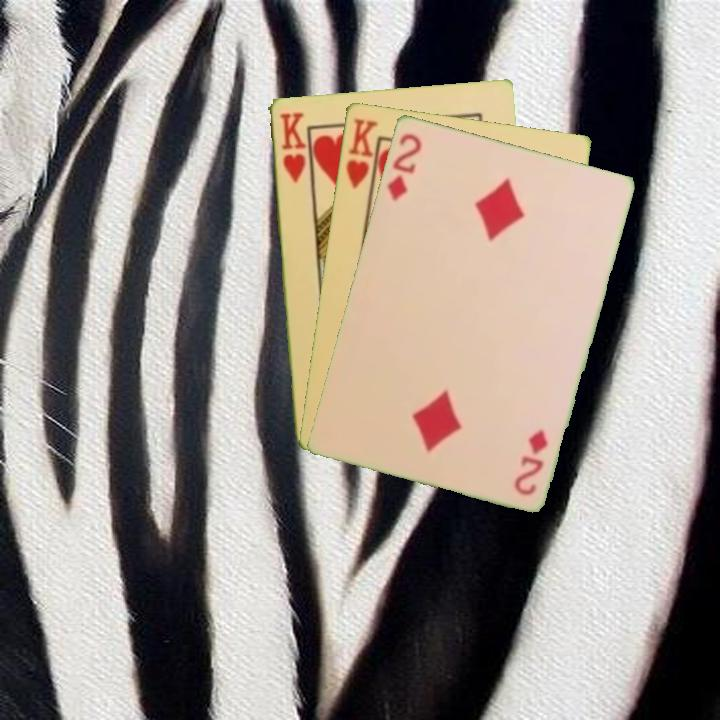2d: (383, 129, 424, 204), (511, 425, 551, 498)
Kh: (342, 114, 381, 199), (276, 108, 308, 185)
